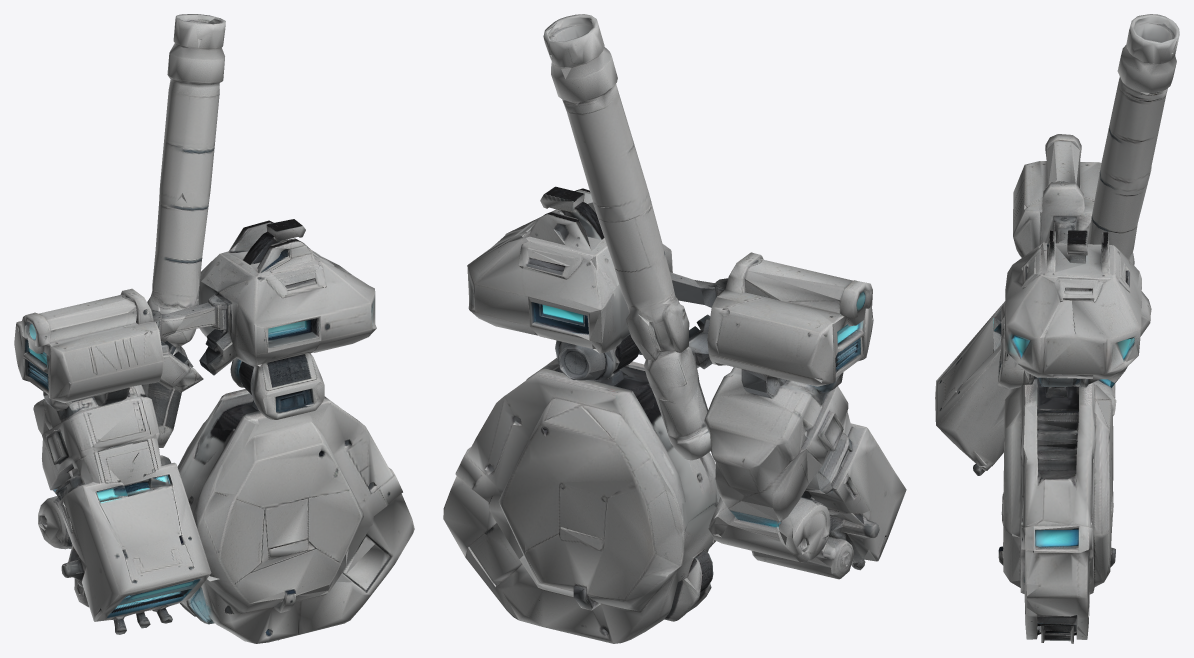
Rendered from Weapon_Cannon.fbx.
The picture shows the model from 3 angles, left to right: view 1: azimuth 30°, elevation 25°; view 2: azimuth 150°, elevation 25°; view 3: azimuth 270°, elevation 25°; orthographic projection. The views are drawn at different scales.
Visible parts, largest first — view 1: Mesh_0; view 2: Mesh_0; view 3: Mesh_0.
Boxes of the visible parts, left/top/right/bottom form: Mesh_0: left=14, top=14, right=414, bottom=643; Mesh_0: left=443, top=14, right=906, bottom=643; Mesh_0: left=935, top=14, right=1179, bottom=643.
Bounding box in the file's own units: 123 × 190 × 71.71.
1 material, 1 textured.
